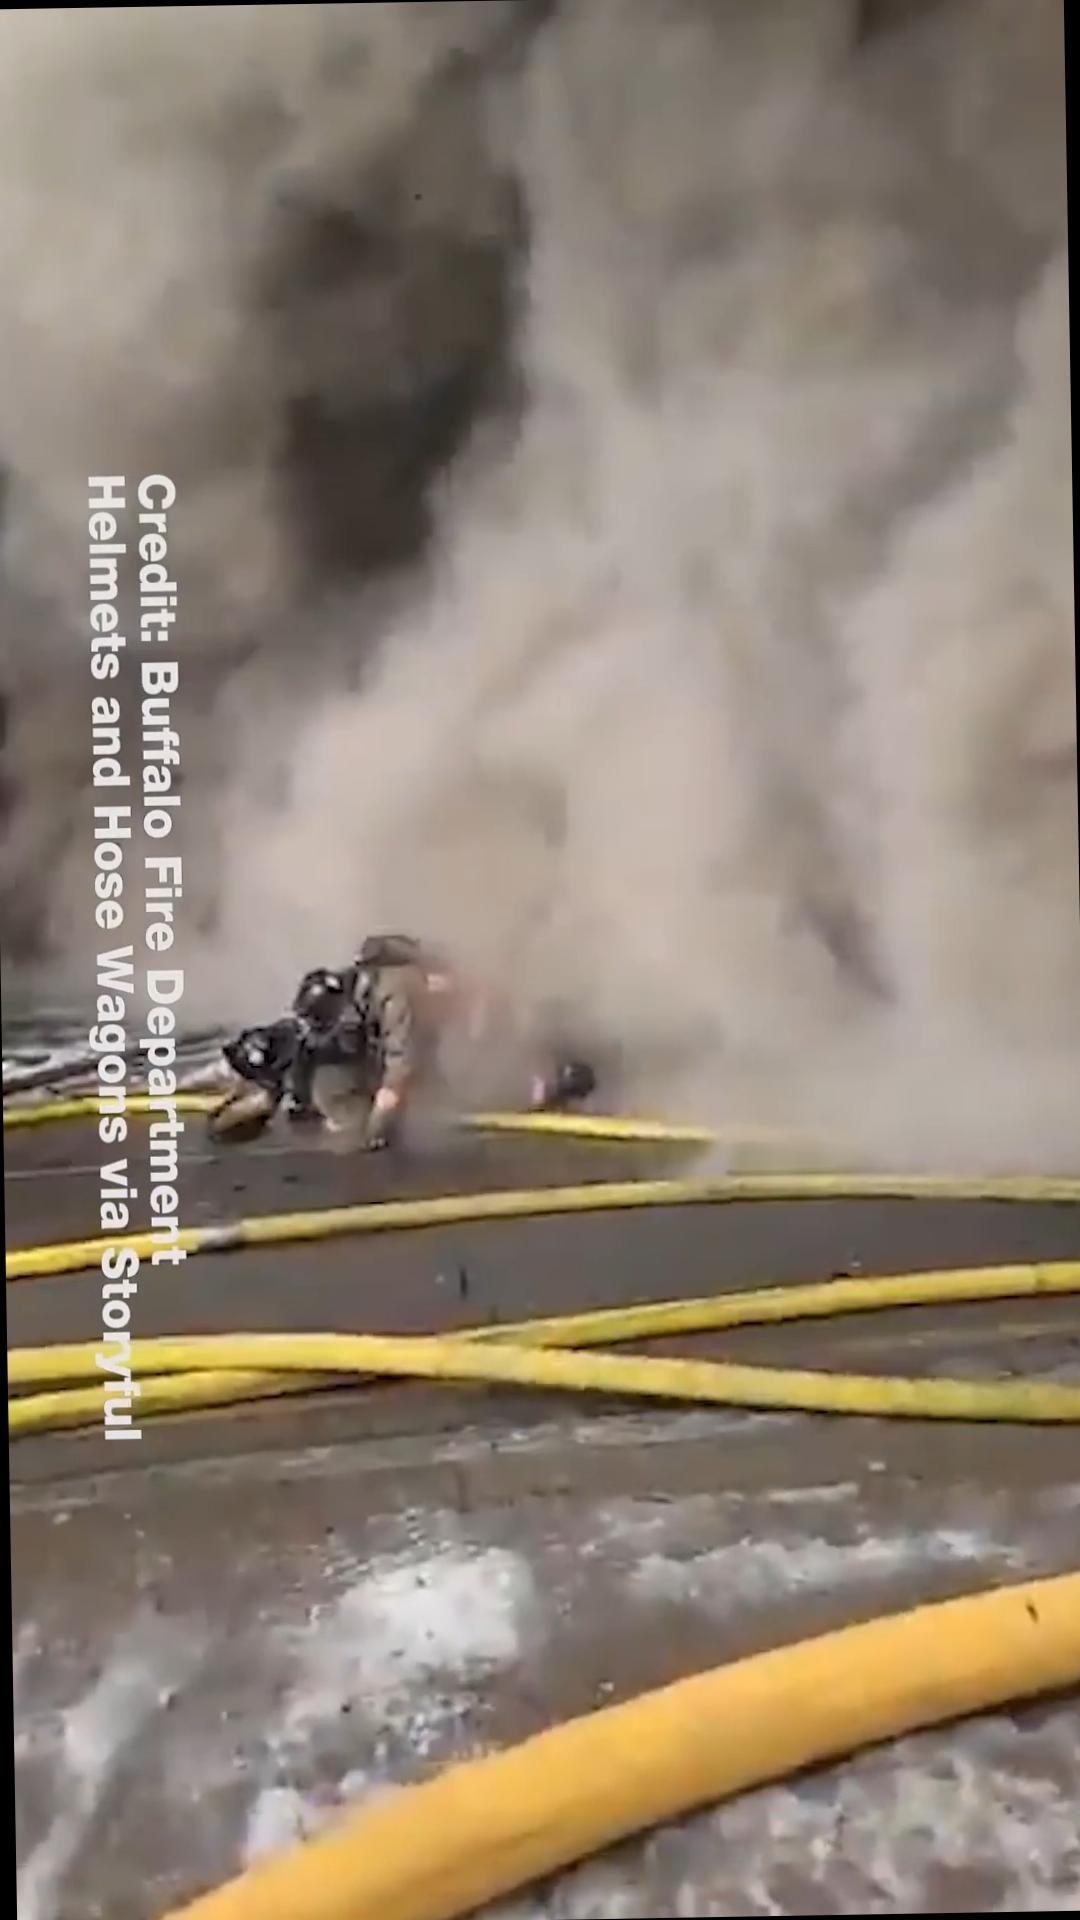Smoke: (436, 0, 1080, 1195)
